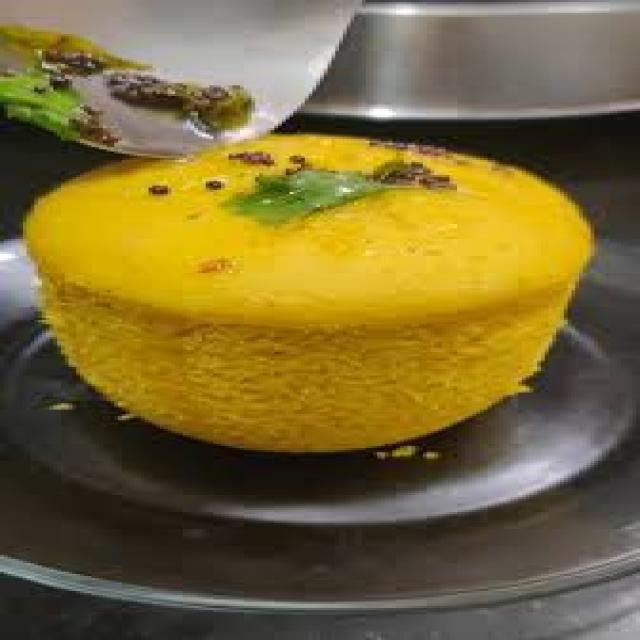DHOKLA: (31, 131, 599, 453)
